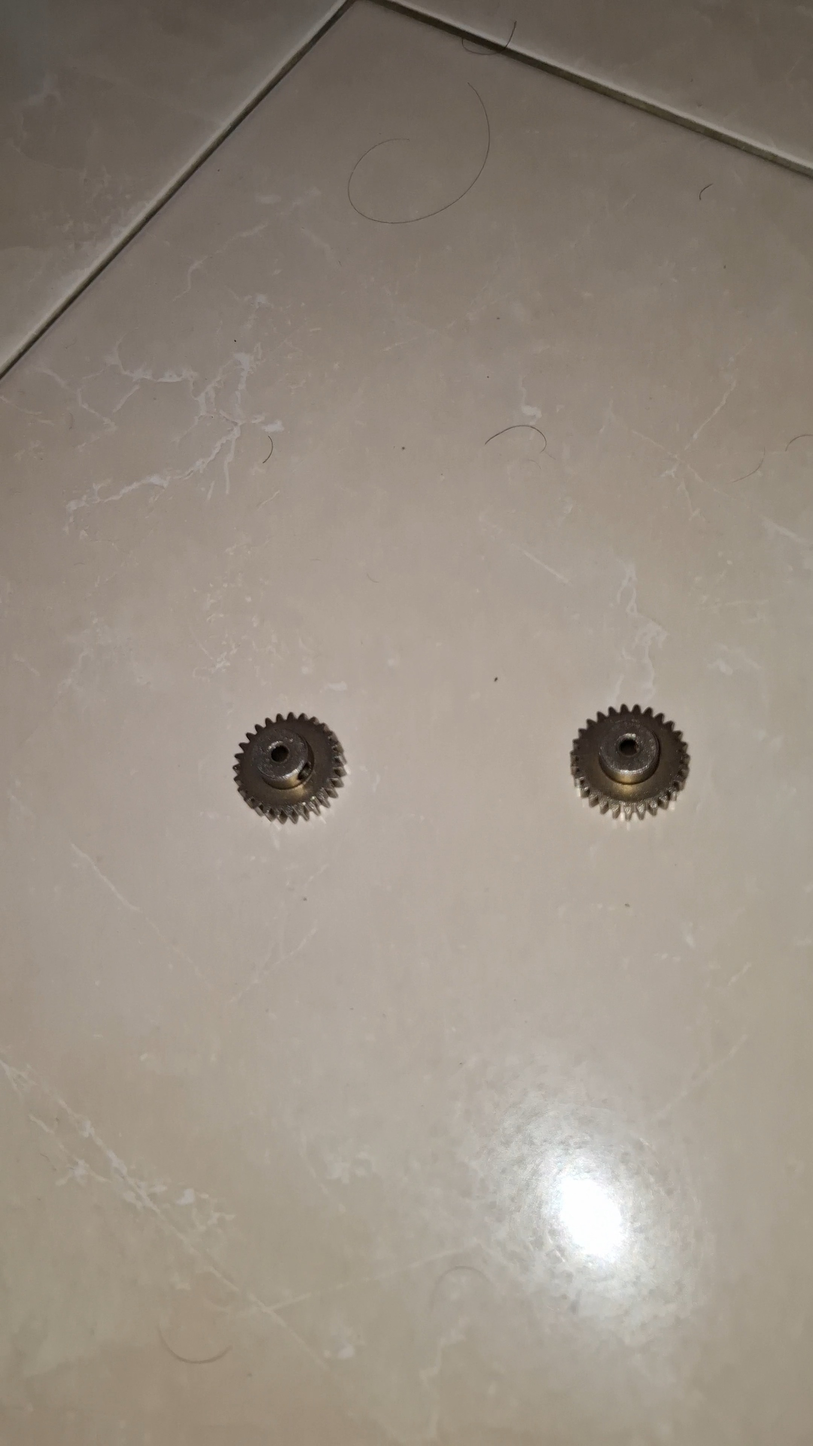spur gear: (571, 705, 689, 818), (234, 714, 345, 821)
